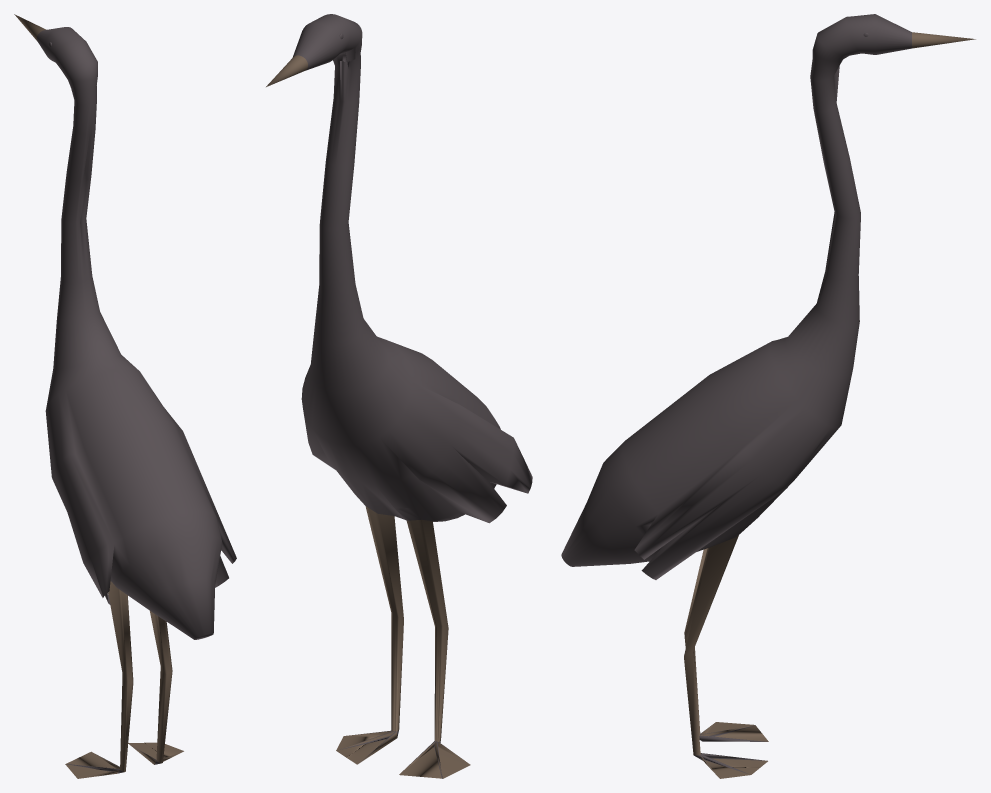
Rendered from heron.fbx.
3 views of the same model, side by side, from view 1: azimuth 30°, elevation 25°; view 2: azimuth 150°, elevation 25°; view 3: azimuth 270°, elevation 25° (orthographic). The views are drawn at different scales.
Visible parts, largest first — view 1: Cone; view 2: Cone; view 3: Cone.
Boxes of the visible parts, x1,y1,x2,y2 form: Cone: (14, 14, 236, 778); Cone: (266, 14, 532, 778); Cone: (561, 14, 975, 778).
Size of the model in its own units: 78.12 by 194 by 379.
